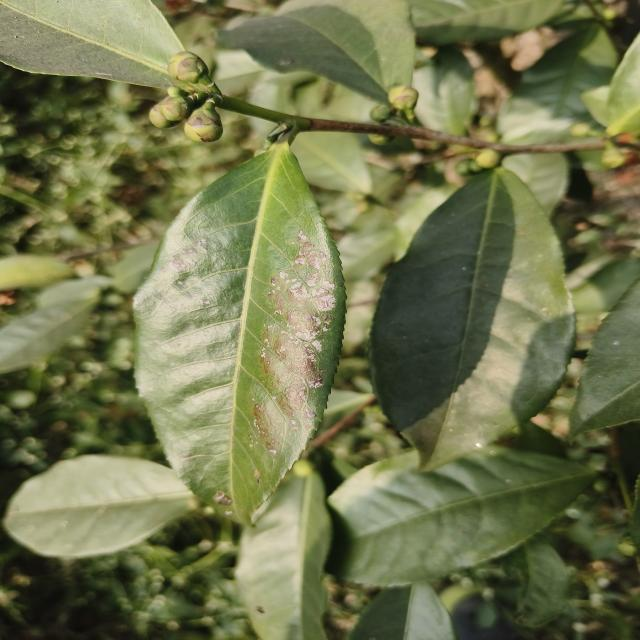Leaf: (134, 135, 345, 524), (370, 168, 574, 469), (328, 446, 593, 585), (220, 0, 415, 102), (4, 455, 196, 558), (235, 471, 331, 640), (0, 0, 182, 88), (498, 25, 617, 144), (570, 280, 640, 438), (0, 296, 97, 373), (408, 0, 562, 45), (349, 582, 456, 640), (413, 45, 477, 135), (506, 538, 569, 627), (291, 132, 372, 194), (503, 154, 569, 214), (606, 33, 640, 136), (336, 229, 394, 282), (0, 254, 73, 291)
